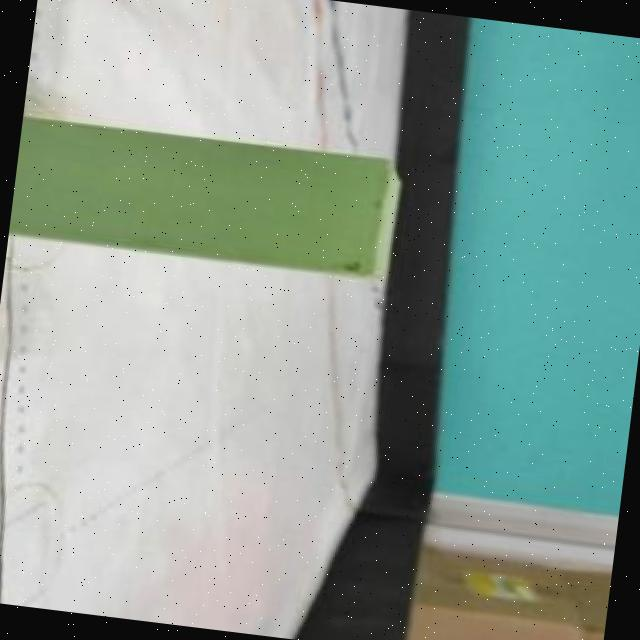greenbox: (8, 110, 407, 288)
